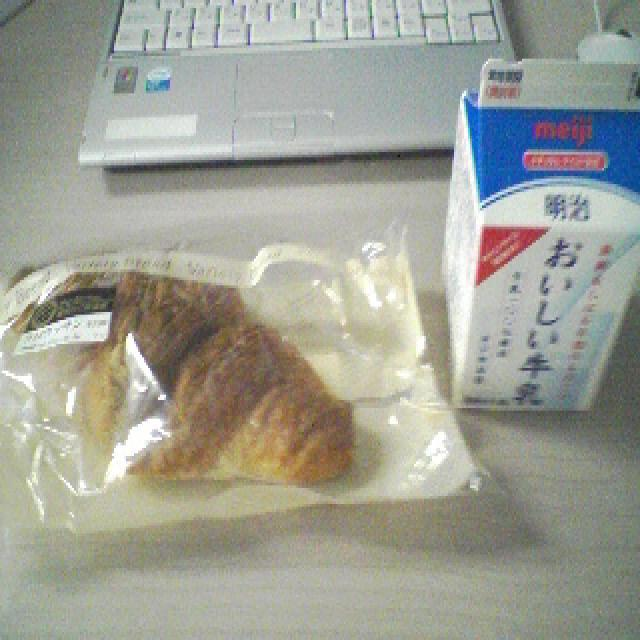Croissant: (8, 265, 360, 496)
